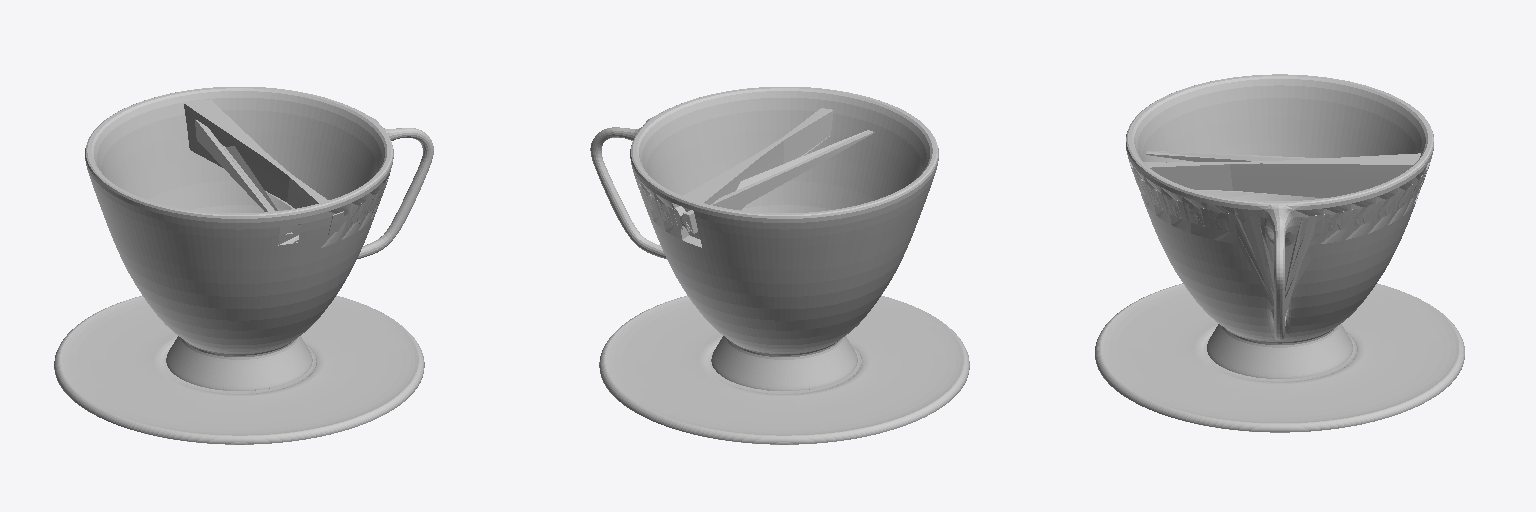
Rendered from plate.obj.
The picture shows the model from 3 angles: view 1: azimuth 30°, elevation 25°; view 2: azimuth 150°, elevation 25°; view 3: azimuth 270°, elevation 25°; orthographic projection.
Visible parts, largest first — view 1: cup_Cylinder, plate; view 2: cup_Cylinder, plate; view 3: cup_Cylinder, plate.
Part boxes in pixels (x1,y1,x2,y2): cup_Cylinder: (85,87,433,390); plate: (54,295,424,444); cup_Cylinder: (590,87,938,390); plate: (599,295,969,444); cup_Cylinder: (1126,74,1433,378); plate: (1095,283,1464,432).
Bounding box in the file's own units: 7.09 × 4.18 × 6.43.